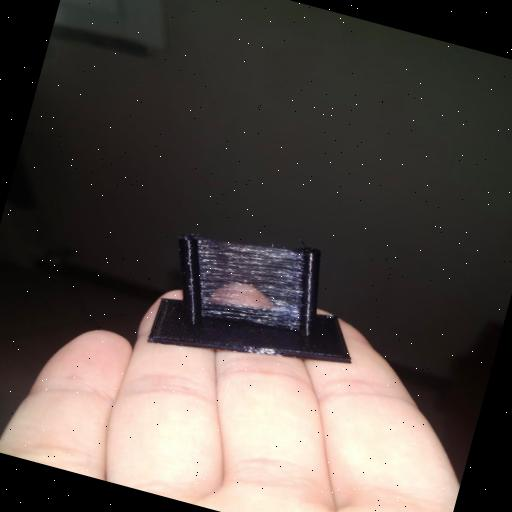stringing: (176, 223, 314, 339)
